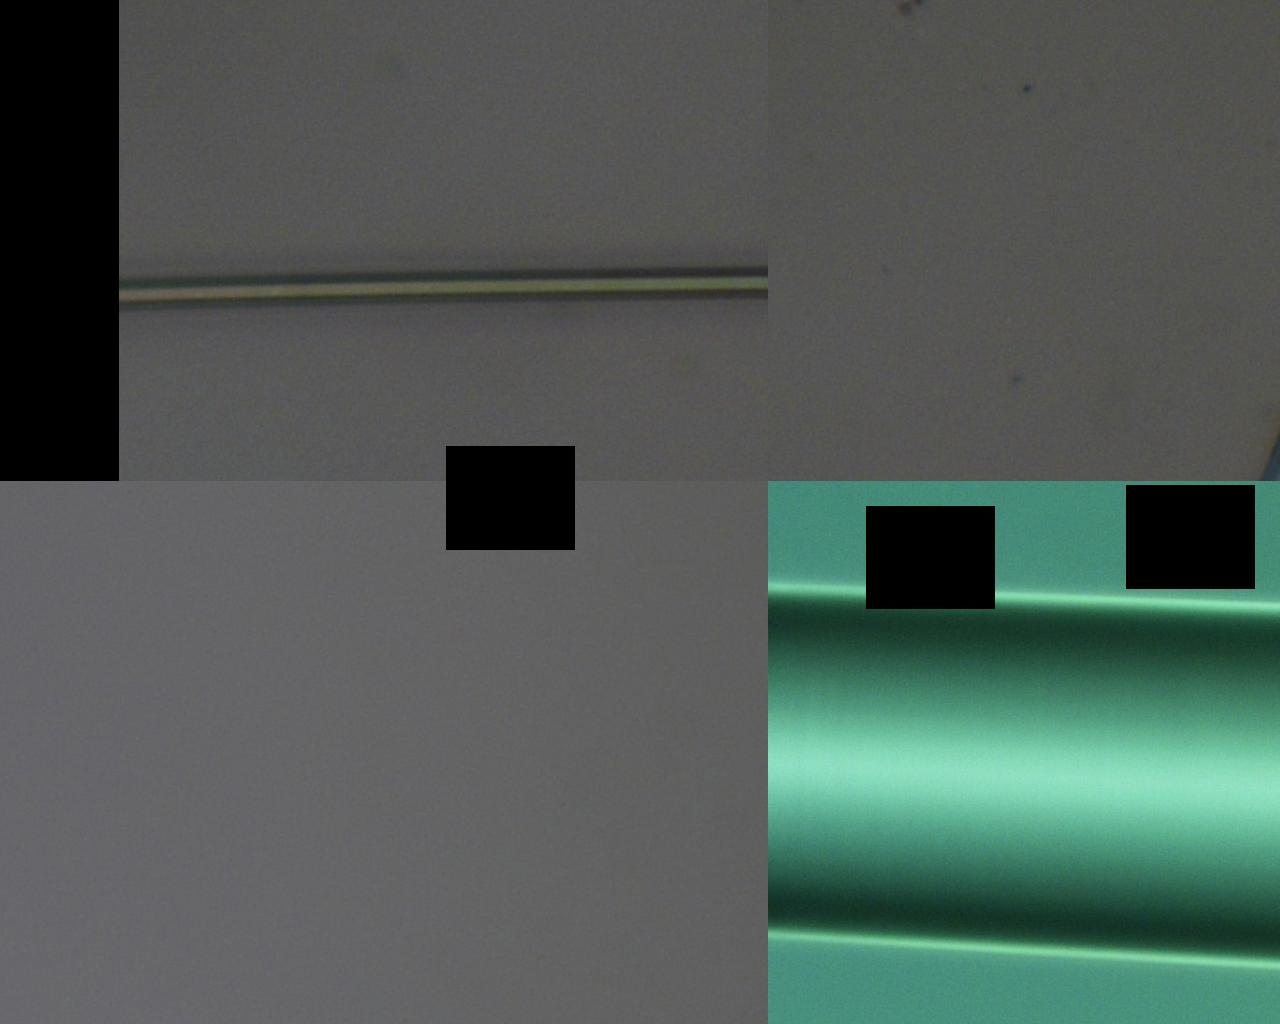fiber: (476, 419, 740, 1024), (1036, 712, 1280, 1024), (473, 0, 530, 419)
